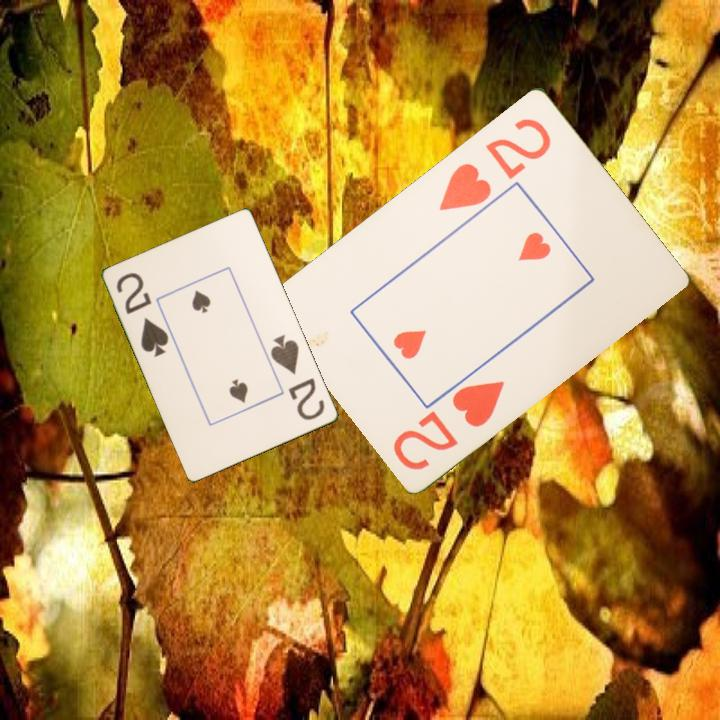2h: (435, 114, 555, 214), (389, 376, 508, 473)
2s: (267, 331, 328, 423), (113, 269, 172, 360)
